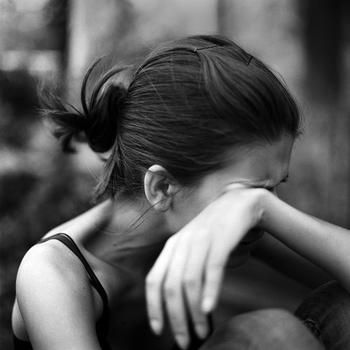sad: (181, 145, 303, 268)
